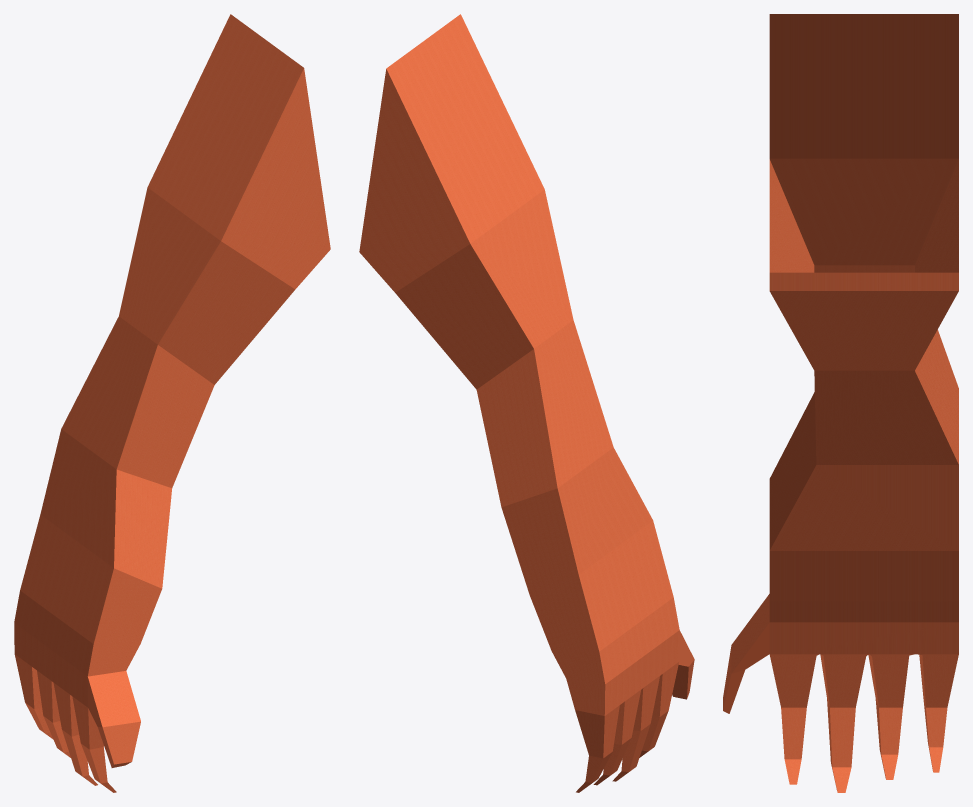
Rendered from Brazo_Derecho.obj.
The picture shows the model from 3 angles, left to right: view 1: azimuth 30°, elevation 25°; view 2: azimuth 150°, elevation 25°; view 3: azimuth 270°, elevation 25°; orthographic projection. The views are drawn at different scales.
Visible parts, largest first — view 1: Brazo_Derecho; view 2: Brazo_Derecho; view 3: Brazo_Derecho.
Boxes of the visible parts, x1,y1,x2,y2 form: Brazo_Derecho: (14,14,330,792); Brazo_Derecho: (359,14,694,792); Brazo_Derecho: (723,14,958,792).
Bounding box in the file's own units: 0.3847 × 1.05 × 0.2513.
1 material, 1 textured.
